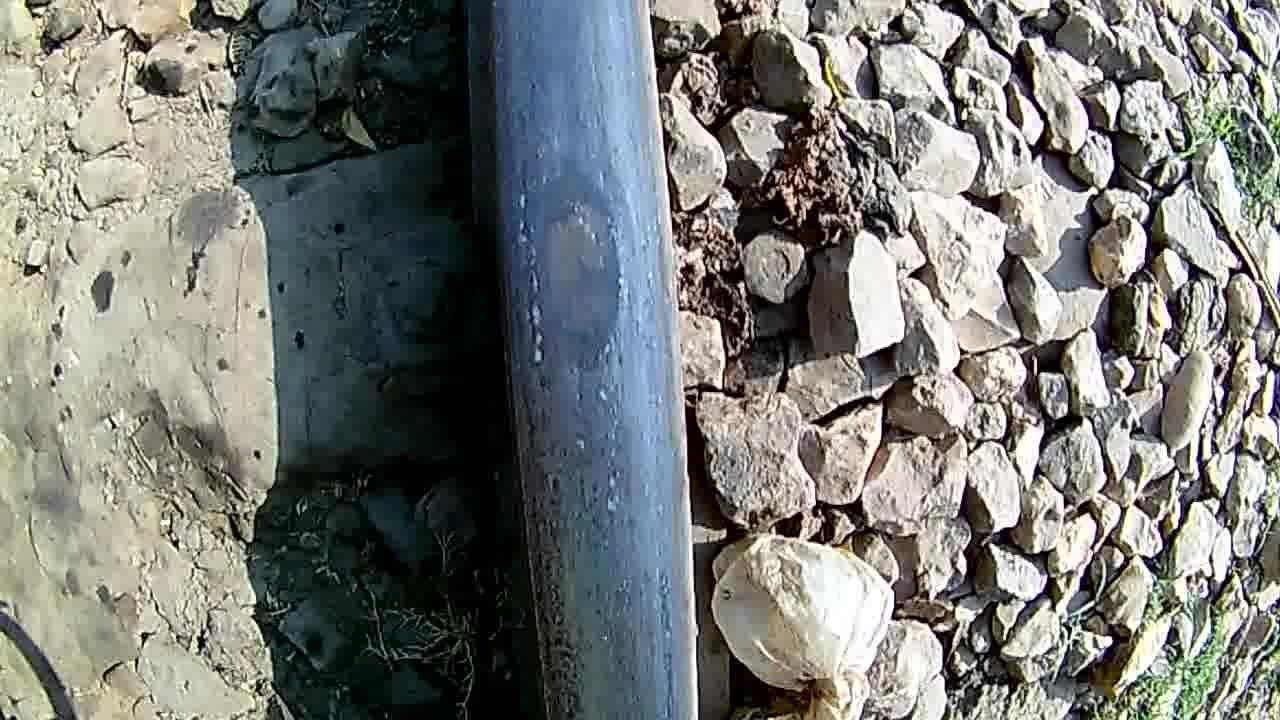crack: (488, 143, 674, 443)
